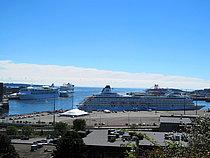Ship: (76, 82, 209, 116)
